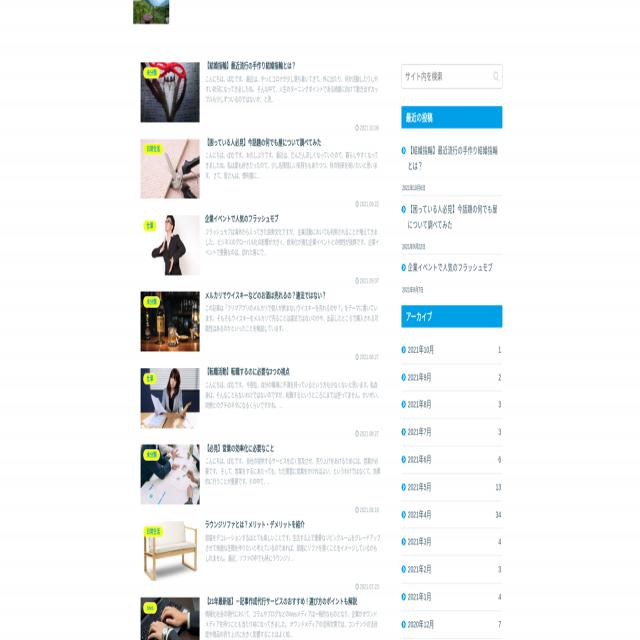button: (140, 62, 200, 123), (140, 215, 200, 276), (140, 368, 200, 429), (140, 521, 200, 582), (140, 139, 200, 199), (140, 292, 200, 352), (140, 445, 200, 505), (133, 0, 169, 23), (491, 70, 502, 82)
field: (402, 64, 502, 89)
